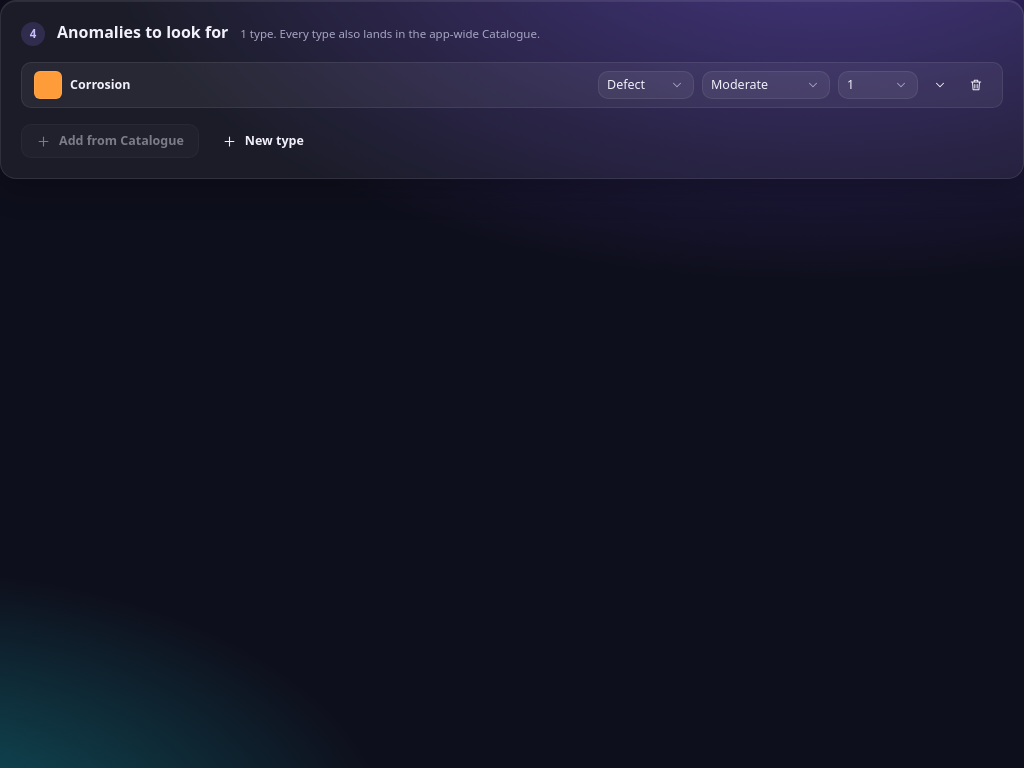
Scenario: AnomaliesCard › shows a blank rule's problem on the collapsed row
Click the button named "Details of Corrosion": (940,85) [926, 71, 954, 99]
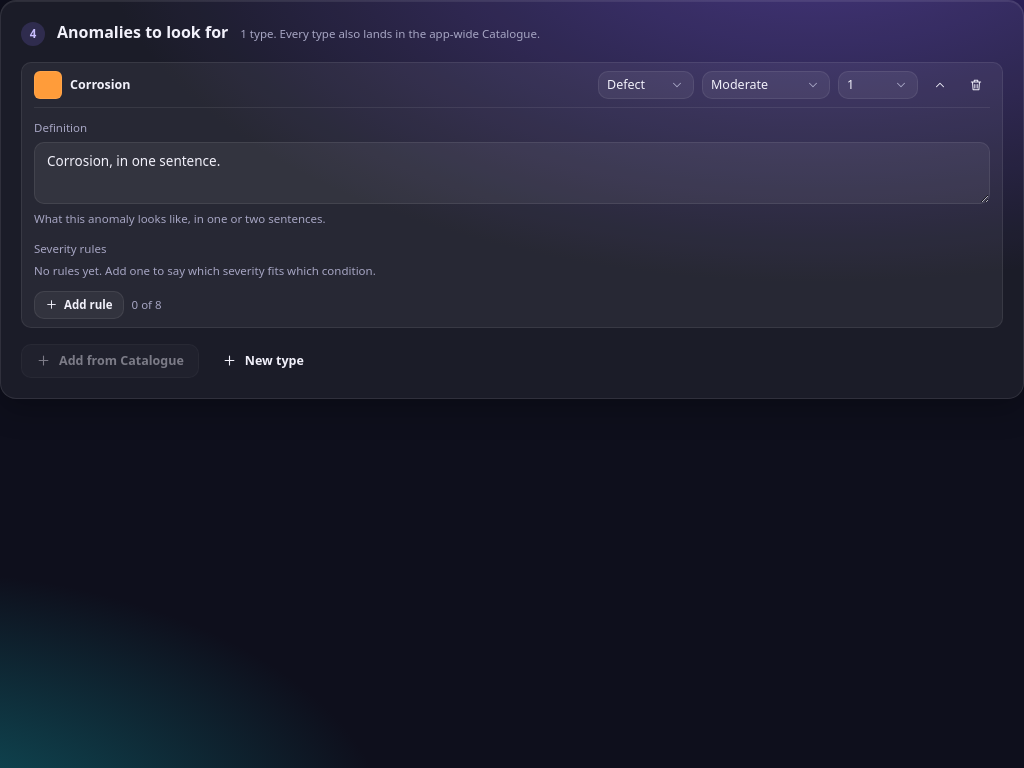
Click the button "Add rule": (79,305) [34, 291, 124, 319]
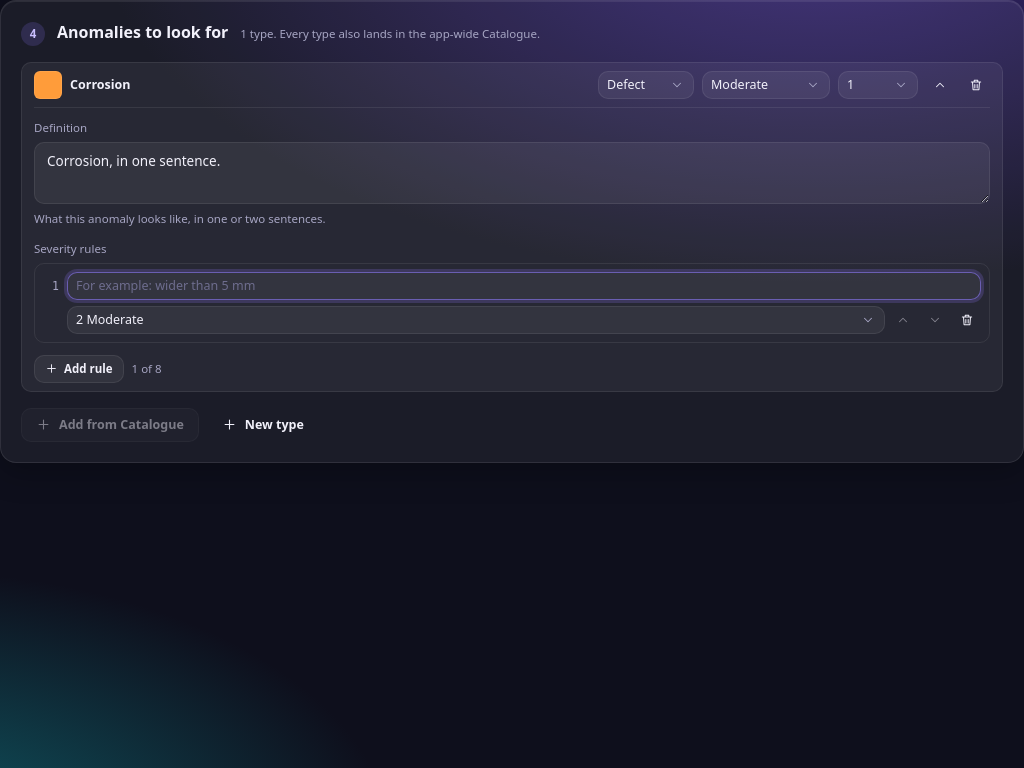
Click the button named "Details of Corrosion": (940,85) [926, 71, 954, 99]
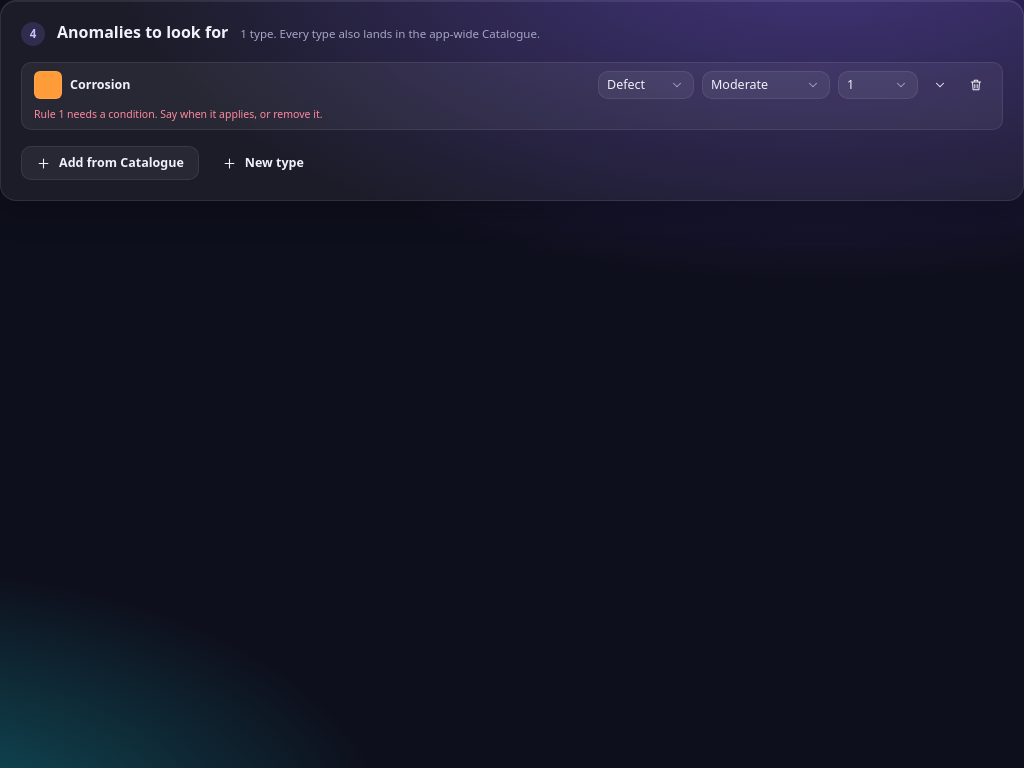
Result: the list item "Corrosion" shows "Rule 1 needs a condition." at [34, 107, 322, 121]
